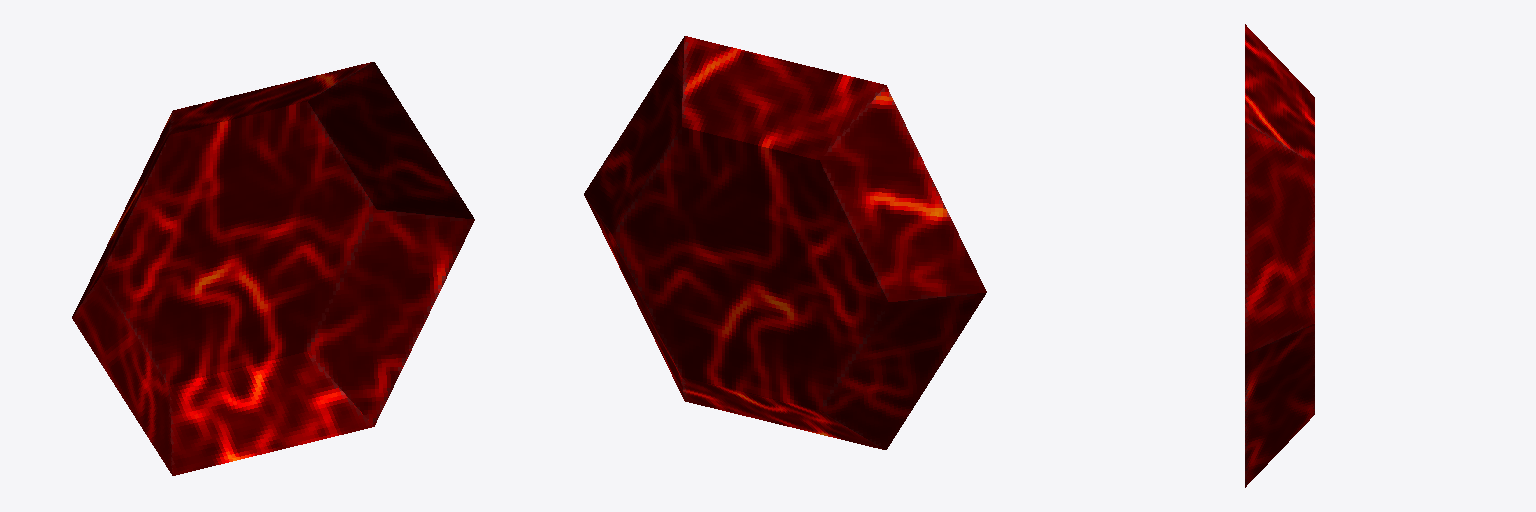
3 views of the same model, side by side, from view 1: azimuth 30°, elevation 25°; view 2: azimuth 150°, elevation 25°; view 3: azimuth 270°, elevation 25° (orthographic).
Parts seen in each view (by area): view 1: hex; view 2: hex; view 3: hex.
Part boxes in pixels (x1,y1,x2,y2): hex: (72,62,474,475); hex: (584,36,986,449); hex: (1245,24,1314,487).
Size of the model in its own units: 2 by 1.73 by 0.3.
1 materials, 1 textured.